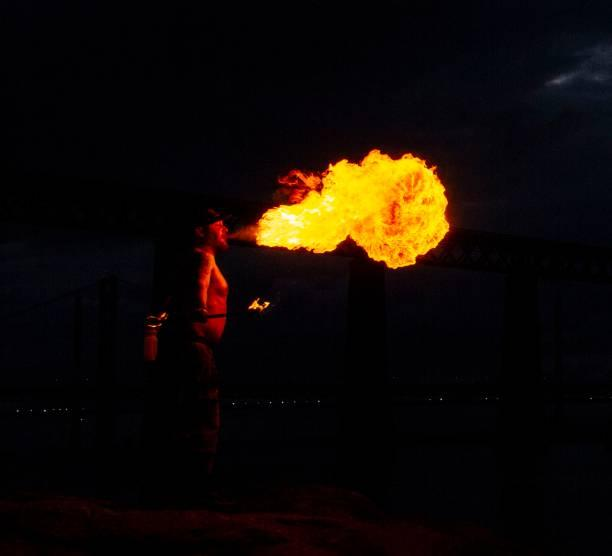Fire: (247, 140, 462, 276)
